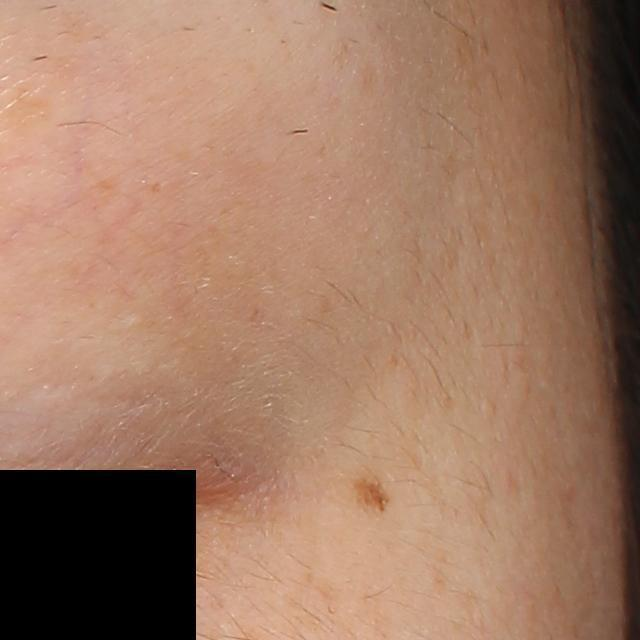nevus: (352, 475, 395, 514)
